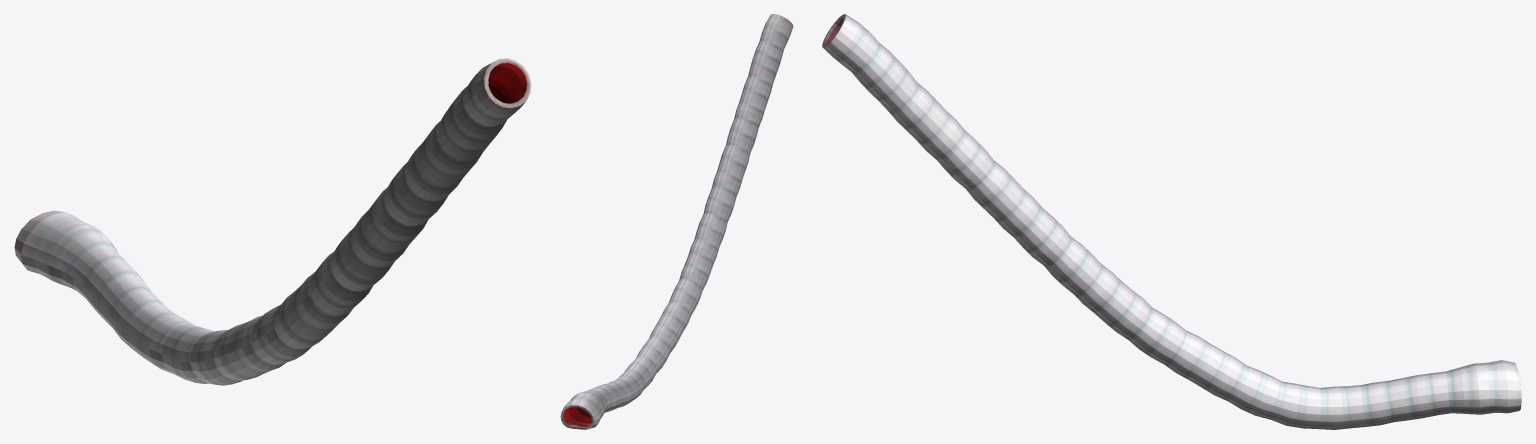
File: trachea_LOW.glb
The picture shows the model from 3 angles, left to right: view 1: azimuth 30°, elevation 25°; view 2: azimuth 150°, elevation 25°; view 3: azimuth 270°, elevation 25°; orthographic projection. The views are drawn at different scales.
Visible parts, largest first — view 1: trachea_LOW; view 2: trachea_LOW; view 3: trachea_LOW.
Part boxes in pixels (<box>): trachea_LOW: <box>14,58,531,385</box>; trachea_LOW: <box>560,14,793,429</box>; trachea_LOW: <box>822,14,1521,429</box>.
Bounding box in the file's own units: 0.000669 × 0.00399 × 0.00606.
1 material, 1 textured.
